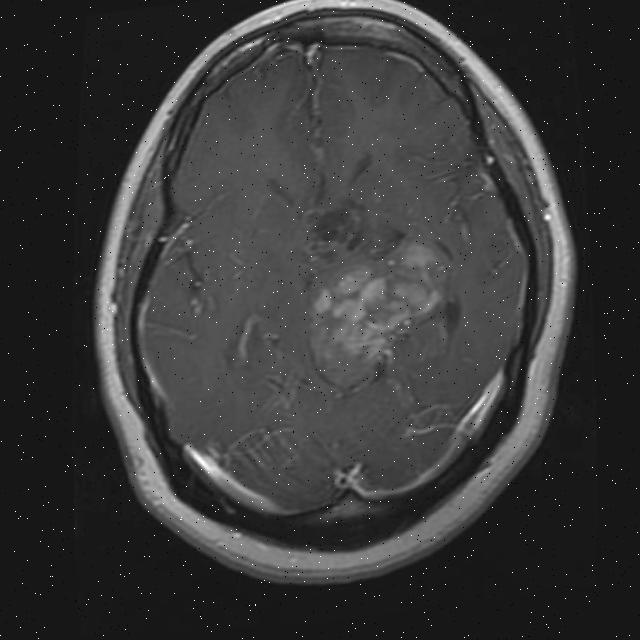Glioma: (303, 237, 456, 361)
